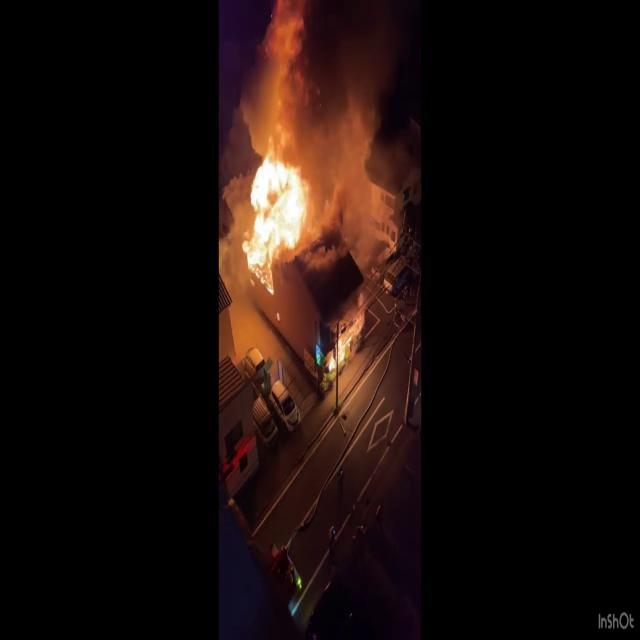Fire: (231, 117, 325, 280), (325, 301, 366, 383)
Smoke: (226, 0, 417, 164), (306, 0, 416, 234)
